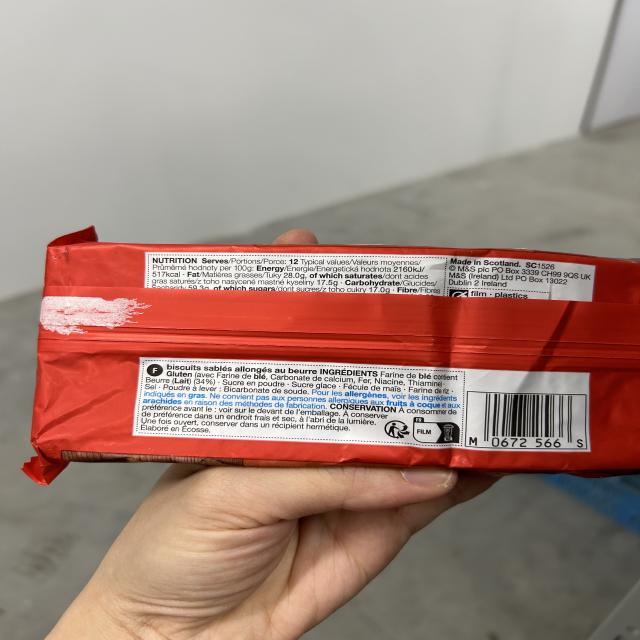object_name: (45, 251, 640, 472)
